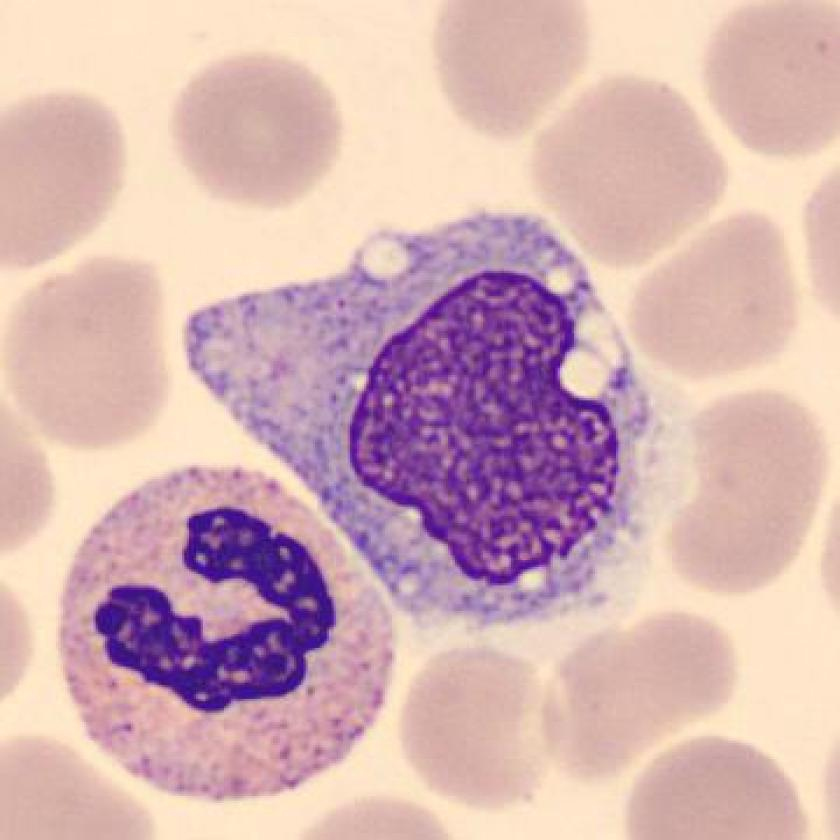monocyte: (162, 191, 717, 651)
